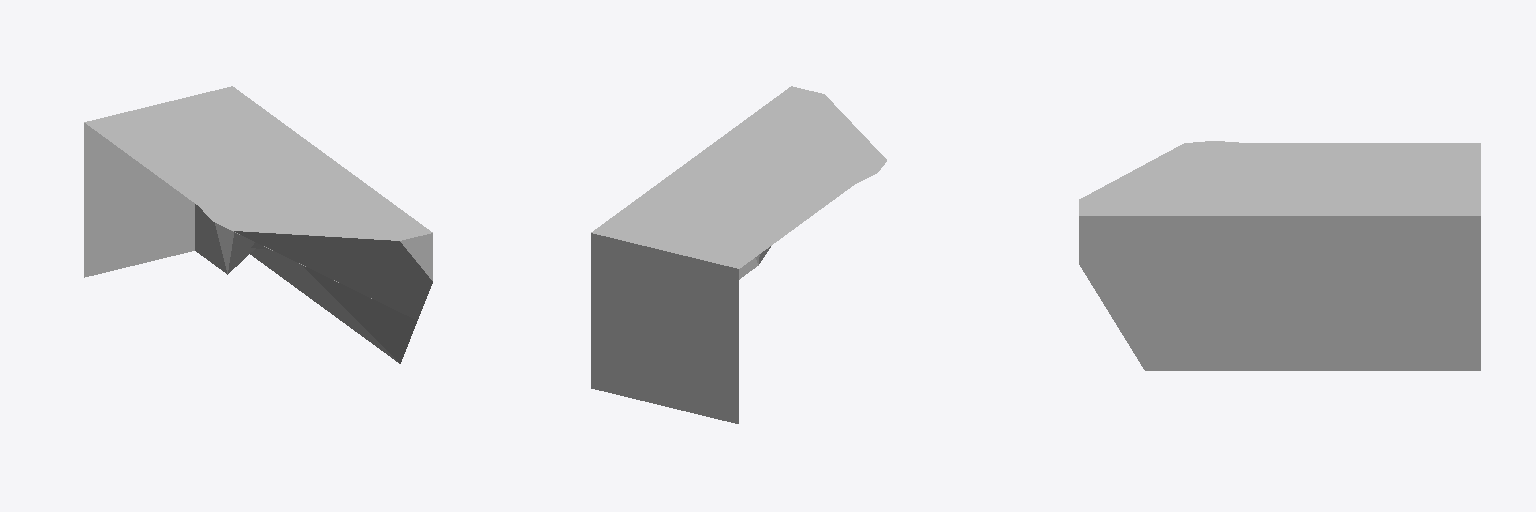
File: prueba.obj
3 views of the same model, side by side, from view 1: azimuth 30°, elevation 25°; view 2: azimuth 150°, elevation 25°; view 3: azimuth 270°, elevation 25° (orthographic).
Parts seen in each view (by area): view 1: Object.1; view 2: Object.1; view 3: Object.1.
Part boxes in pixels (left/top/right/bottom): Object.1: left=84, top=86, right=432, bottom=363; Object.1: left=591, top=86, right=886, bottom=423; Object.1: left=1079, top=141, right=1480, bottom=370.
Size of the model in its own units: 20.71 by 20 by 46.76.